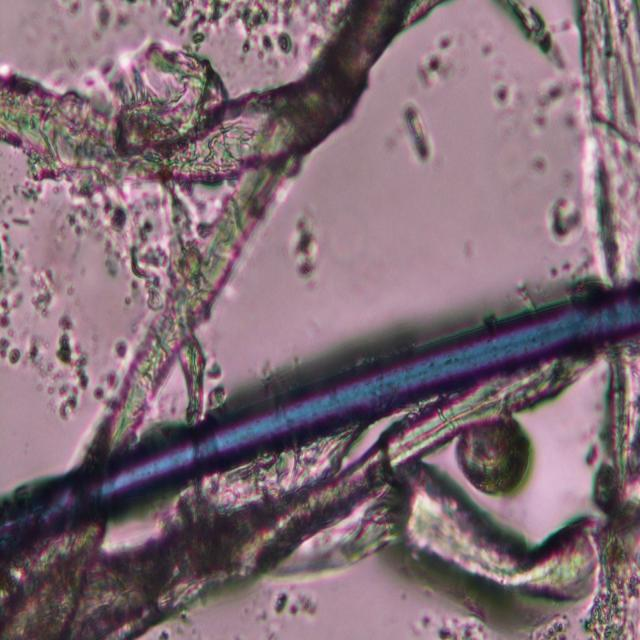Background material: (0, 232, 95, 417), (62, 191, 166, 296), (160, 0, 324, 60), (459, 422, 534, 496), (492, 0, 567, 73), (416, 28, 458, 90), (398, 98, 434, 166), (289, 211, 321, 283), (530, 74, 568, 133), (544, 193, 588, 243), (0, 176, 45, 220), (90, 0, 132, 44), (491, 78, 514, 111), (54, 1, 80, 22), (87, 63, 107, 90), (526, 152, 548, 176)
Cellulose filter fibre: (5, 366, 572, 638), (0, 0, 444, 187), (100, 163, 286, 450), (397, 461, 601, 606), (580, 2, 640, 286), (593, 344, 640, 638)
Microfibre: (5, 273, 640, 554)
